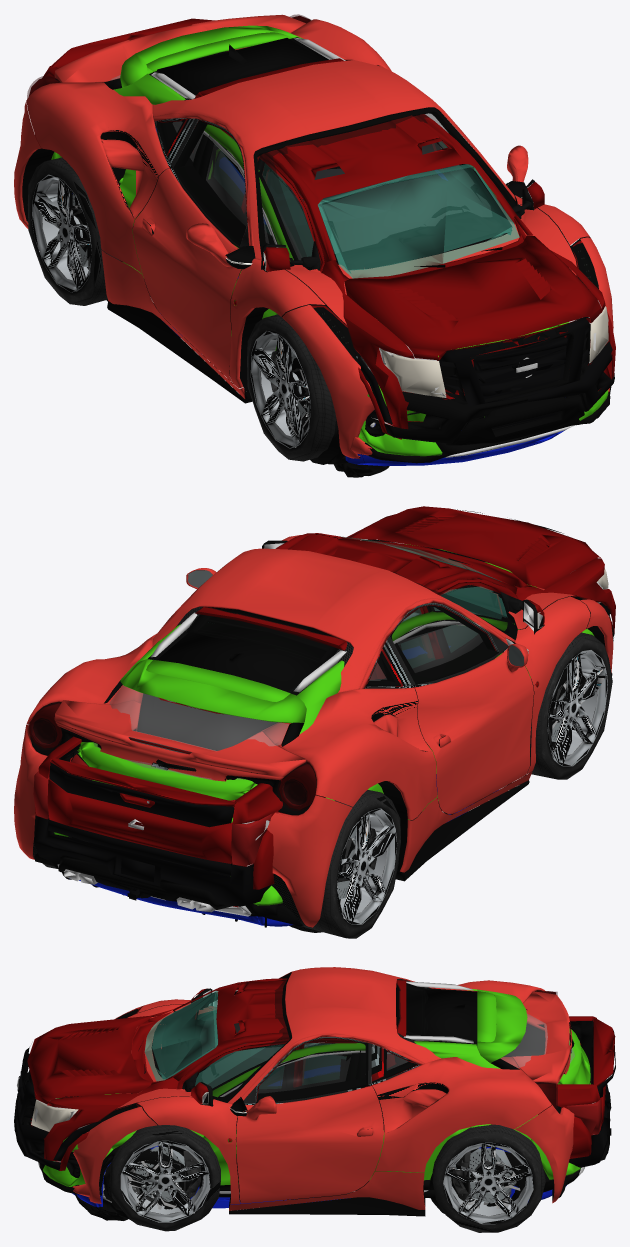
The model's file is cars4.glb.
3 views of the same model, one above another, from view 1: azimuth 30°, elevation 25°; view 2: azimuth 150°, elevation 25°; view 3: azimuth 270°, elevation 25° (orthographic). The views are drawn at different scales.
Parts seen in each view (by area): view 1: Car_sport, Car_4x4, Car_suv, wheelpart (×4), Car_ev; view 2: Car_sport, Car_4x4, Car_suv, wheelpart (×4), Car_ev; view 3: Car_sport, Car_4x4, wheelpart (×9), Car_suv, Car_ev.
Part boxes in pixels (x1=…): Car_sport: x1=14, y1=14, x2=613, y2=458; Car_4x4: x1=35, y1=18, x2=615, y2=445; Car_suv: x1=51, y1=25, x2=610, y2=463; wheelpart (×4): x1=27, y1=157, x2=336, y2=461; Car_ev: x1=72, y1=128, x2=564, y2=466; Car_sport: x1=14, y1=535, x2=613, y2=927; Car_4x4: x1=33, y1=506, x2=615, y2=912; Car_suv: x1=50, y1=544, x2=594, y2=916; wheelpart (×4): x1=301, y1=632, x2=612, y2=938; Car_ev: x1=69, y1=638, x2=498, y2=926; Car_sport: x1=72, y1=967, x2=574, y2=1216; Car_4x4: x1=14, y1=978, x2=615, y2=1170; wheelpart (×9): x1=72, y1=1124, x2=545, y2=1232; Car_suv: x1=38, y1=981, x2=590, y2=1198; Car_ev: x1=72, y1=1047, x2=566, y2=1208.
Bounding box in the file's own units: 2 × 1.4 × 4.09.
65 materials, 7 textured.
